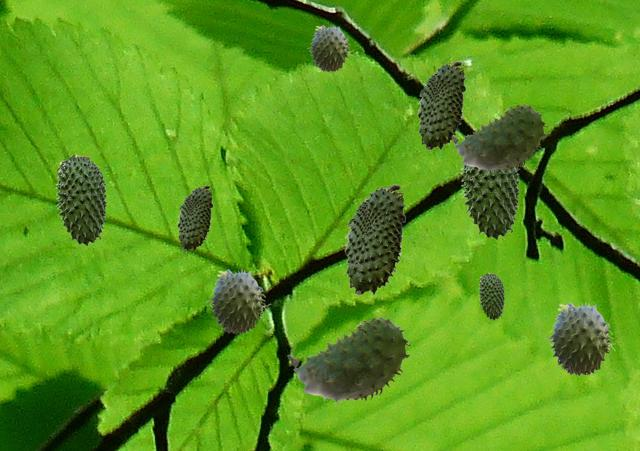guyabano: (287, 317, 409, 405), (344, 184, 405, 294), (453, 104, 546, 174), (545, 301, 618, 375), (460, 158, 520, 239), (55, 153, 107, 245), (417, 61, 465, 149), (206, 268, 270, 333), (177, 185, 212, 250), (307, 24, 353, 71), (478, 272, 504, 319)
